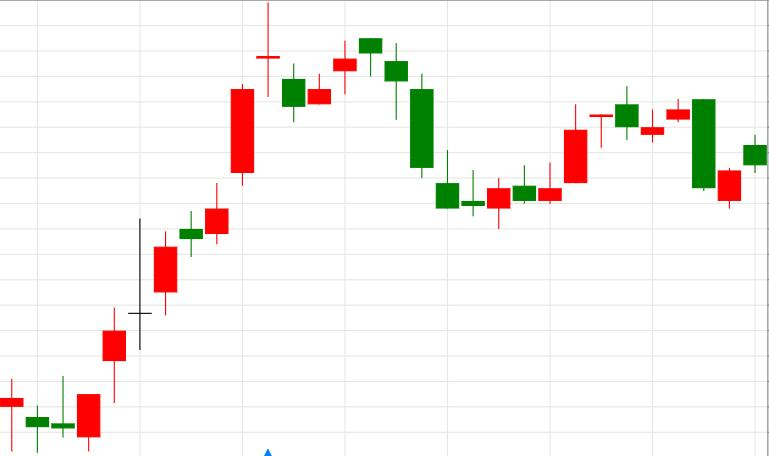evening_star_fall: (78, 3, 305, 453)
